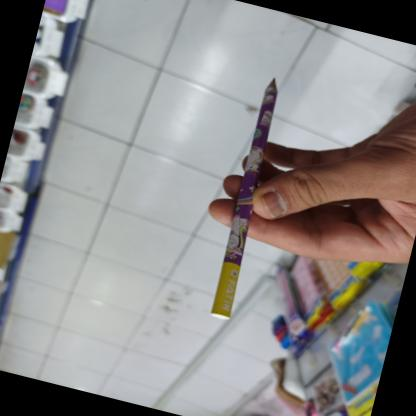pencil: (204, 75, 292, 323)
